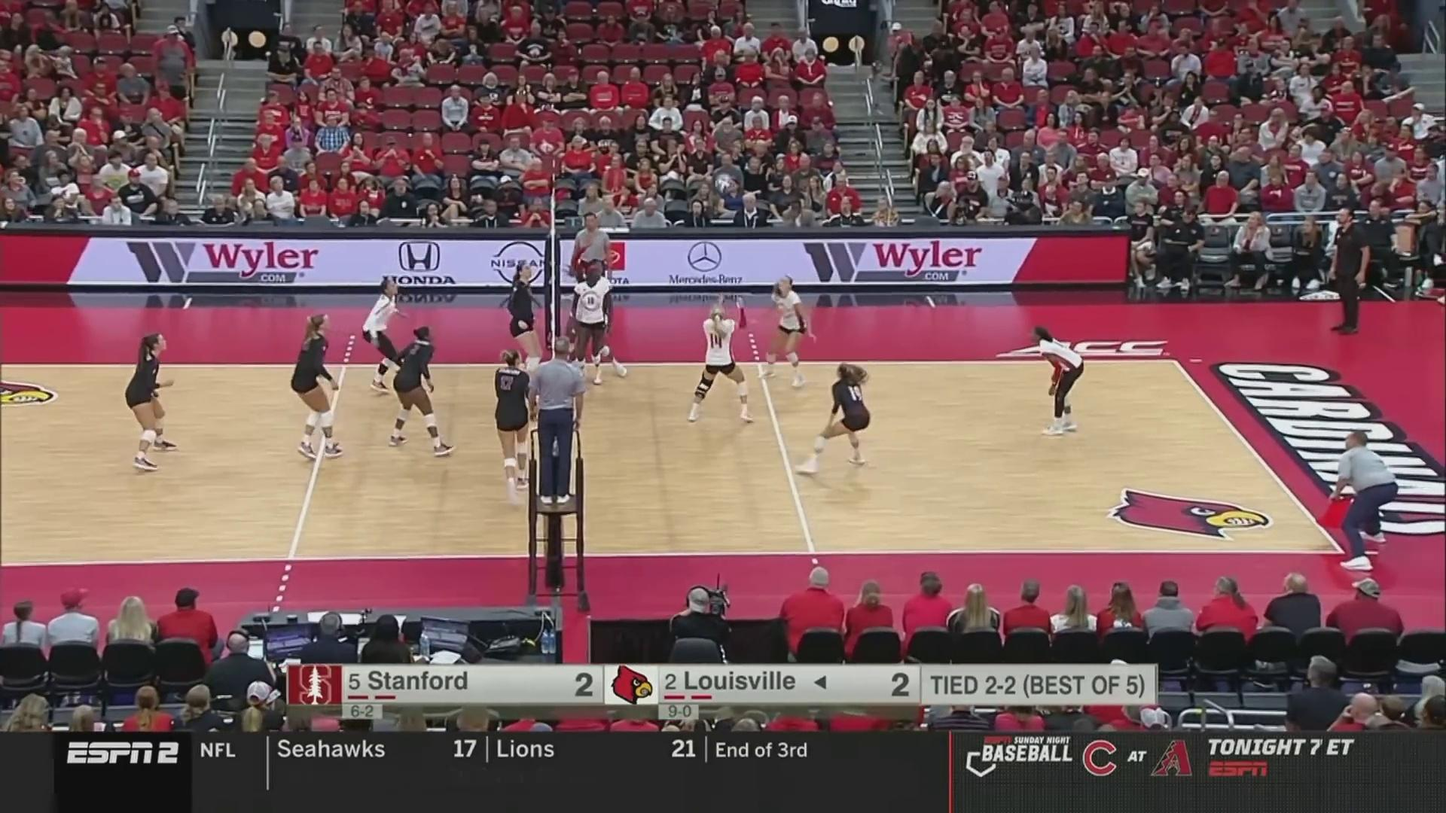player: (390, 326, 459, 456), (289, 311, 345, 461), (796, 361, 871, 470), (360, 280, 431, 394), (122, 332, 179, 471), (690, 299, 752, 424), (490, 351, 537, 506), (572, 260, 631, 380), (1027, 326, 1088, 435), (500, 261, 549, 392), (761, 275, 815, 384), (570, 266, 611, 390)
refree: (1327, 428, 1399, 573), (526, 340, 585, 502), (575, 213, 614, 327)
